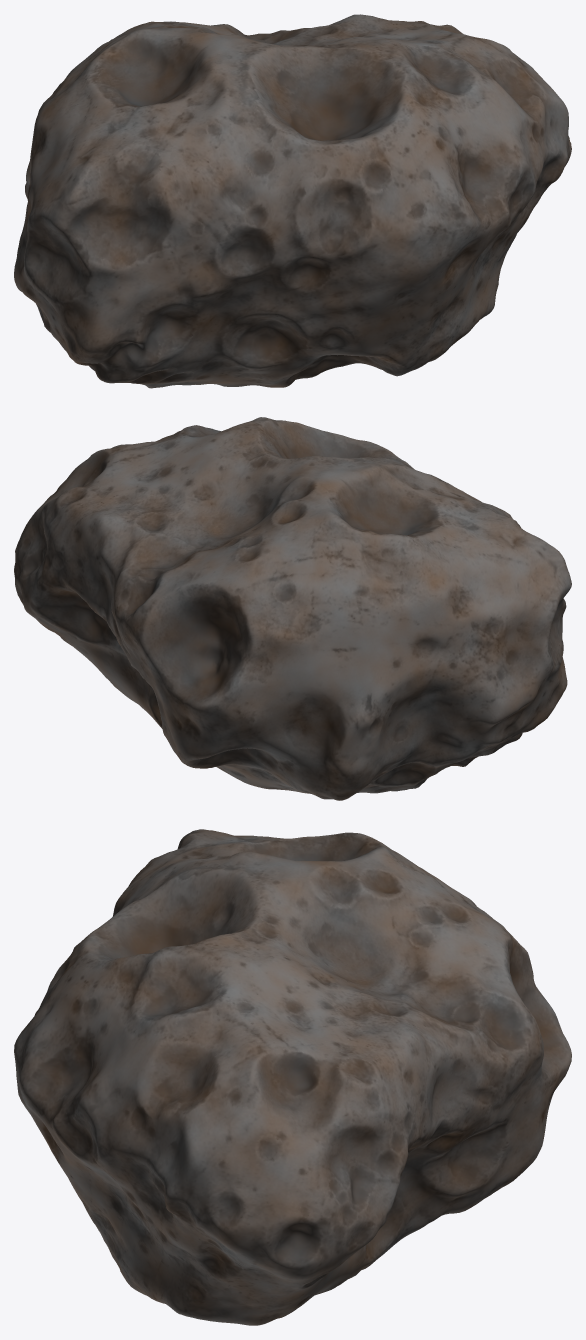
Rendered from meteorite.glb.
3 renders of one model, top to bottom at view 1: azimuth 30°, elevation 25°; view 2: azimuth 150°, elevation 25°; view 3: azimuth 270°, elevation 25°, orthographic. The views are drawn at different scales.
Parts seen in each view (by area): view 1: Meteorite_Meteorite_Shader_Proxy_0; view 2: Meteorite_Meteorite_Shader_Proxy_0; view 3: Meteorite_Meteorite_Shader_Proxy_0.
Part boxes in pixels (<box>): Meteorite_Meteorite_Shader_Proxy_0: <box>14,14,571,388</box>; Meteorite_Meteorite_Shader_Proxy_0: <box>14,417,571,800</box>; Meteorite_Meteorite_Shader_Proxy_0: <box>14,829,571,1325</box>.
Bounding box in the file's own units: 7.19 × 4.26 × 5.62.
1 material, 1 textured.
